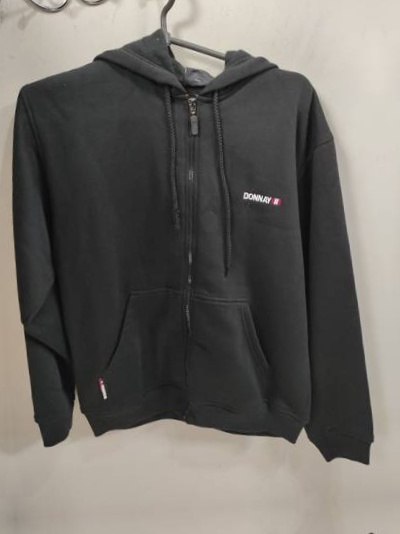Hoodie: (0, 15, 395, 506), (379, 0, 400, 484), (26, 511, 400, 534), (0, 38, 4, 528), (0, 534, 33, 534)
